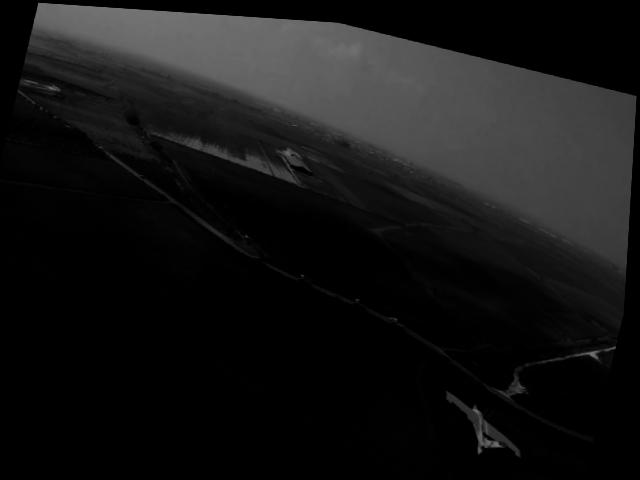hedef: (412, 374, 534, 469)
